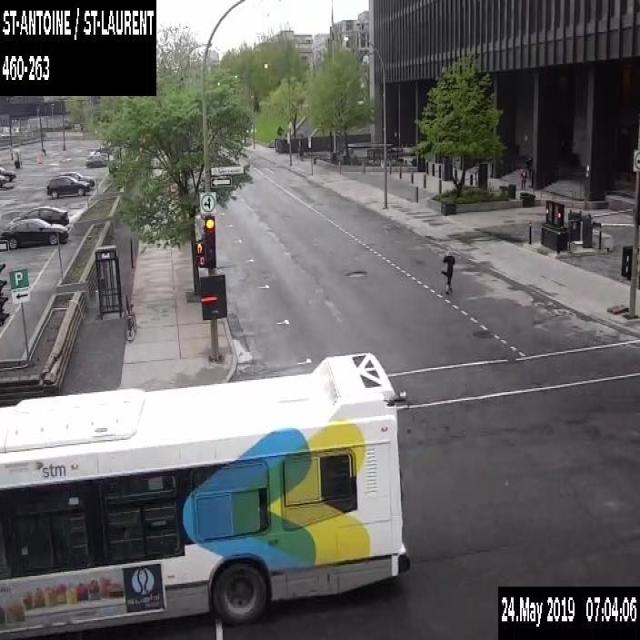bus: (0, 349, 412, 639)
construction: (274, 124, 284, 137)
pedestrian: (442, 247, 454, 294)
vehicle: (0, 217, 68, 247), (8, 205, 69, 226), (46, 175, 90, 198), (57, 170, 94, 187), (85, 154, 107, 166), (0, 164, 15, 180), (86, 149, 108, 157), (0, 173, 5, 185)
